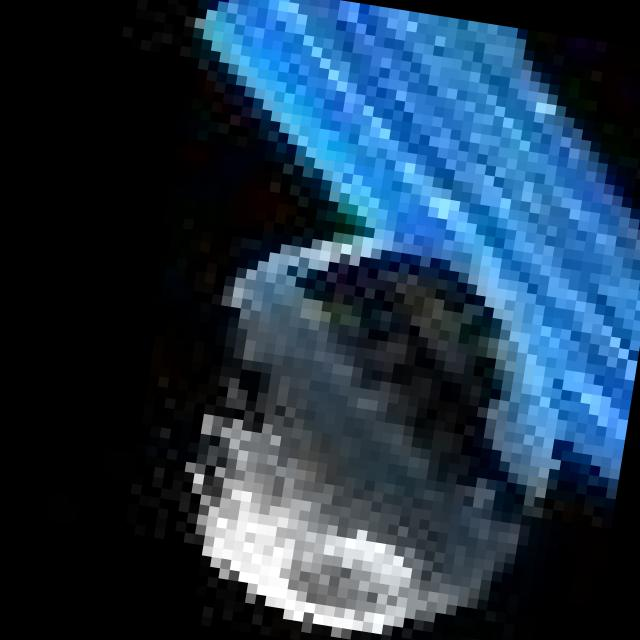Death Star: (156, 206, 564, 636)
